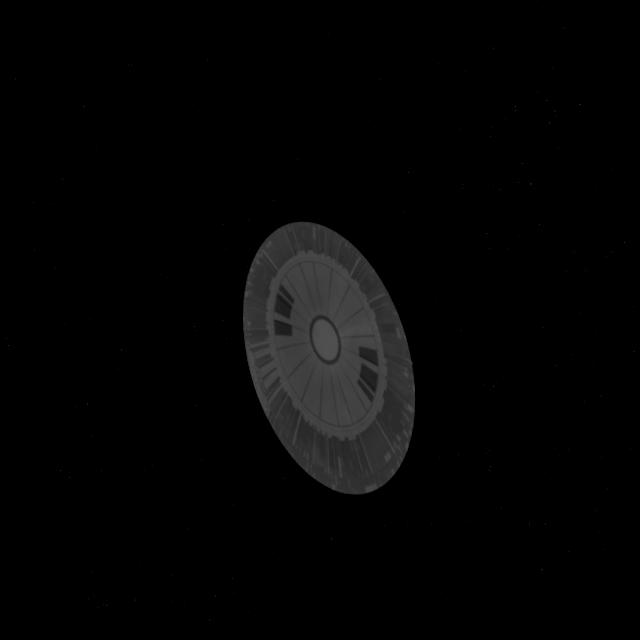death-stars: (240, 221, 414, 497)
